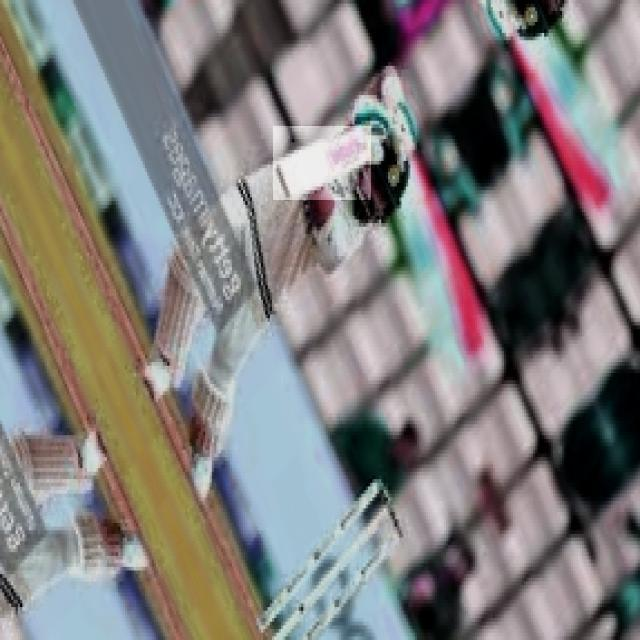bat: (273, 123, 370, 203)
toe: (272, 169, 296, 204)
